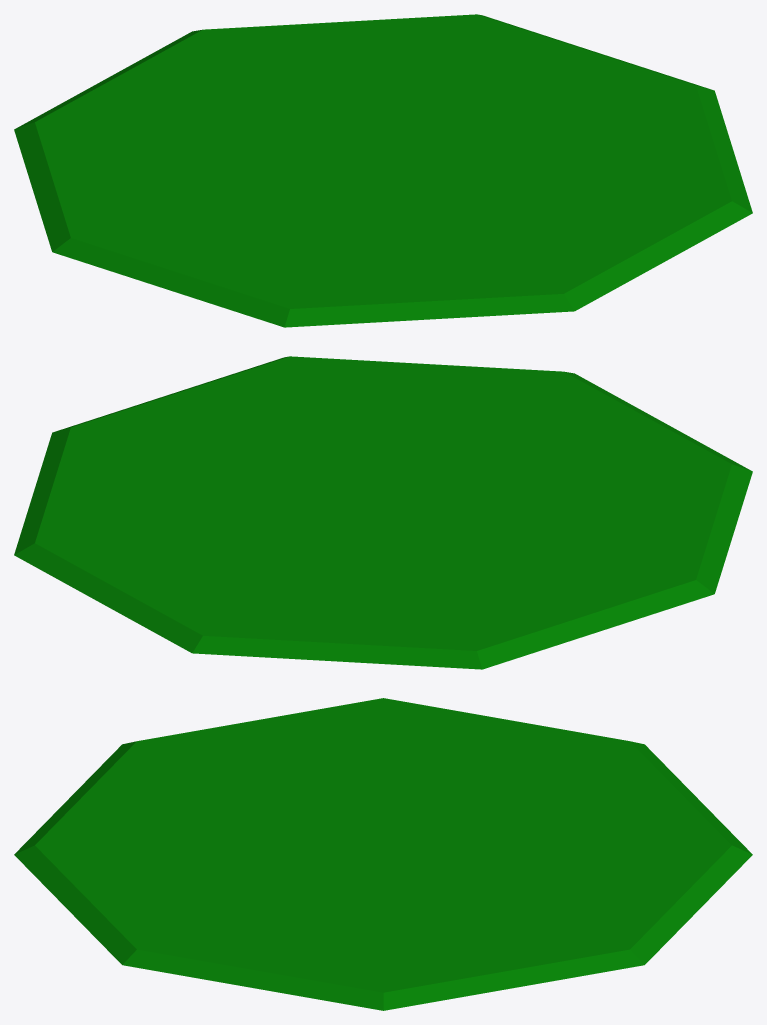
File: island_ex_large.glb
The picture shows the model from 3 angles, top to bottom: view 1: azimuth 30°, elevation 25°; view 2: azimuth 150°, elevation 25°; view 3: azimuth 270°, elevation 25°; orthographic projection. The views are drawn at different scales.
Visible parts, largest first — view 1: Island_Ex_Large; view 2: Island_Ex_Large; view 3: Island_Ex_Large.
Boxes of the visible parts, x1,y1,x2,y2 form: Island_Ex_Large: [14, 14, 752, 327]; Island_Ex_Large: [14, 356, 752, 669]; Island_Ex_Large: [14, 698, 752, 1010].
Bounding box in the file's own units: 170 × 20.45 × 170.
Materials: 1 (1 with a texture image).
